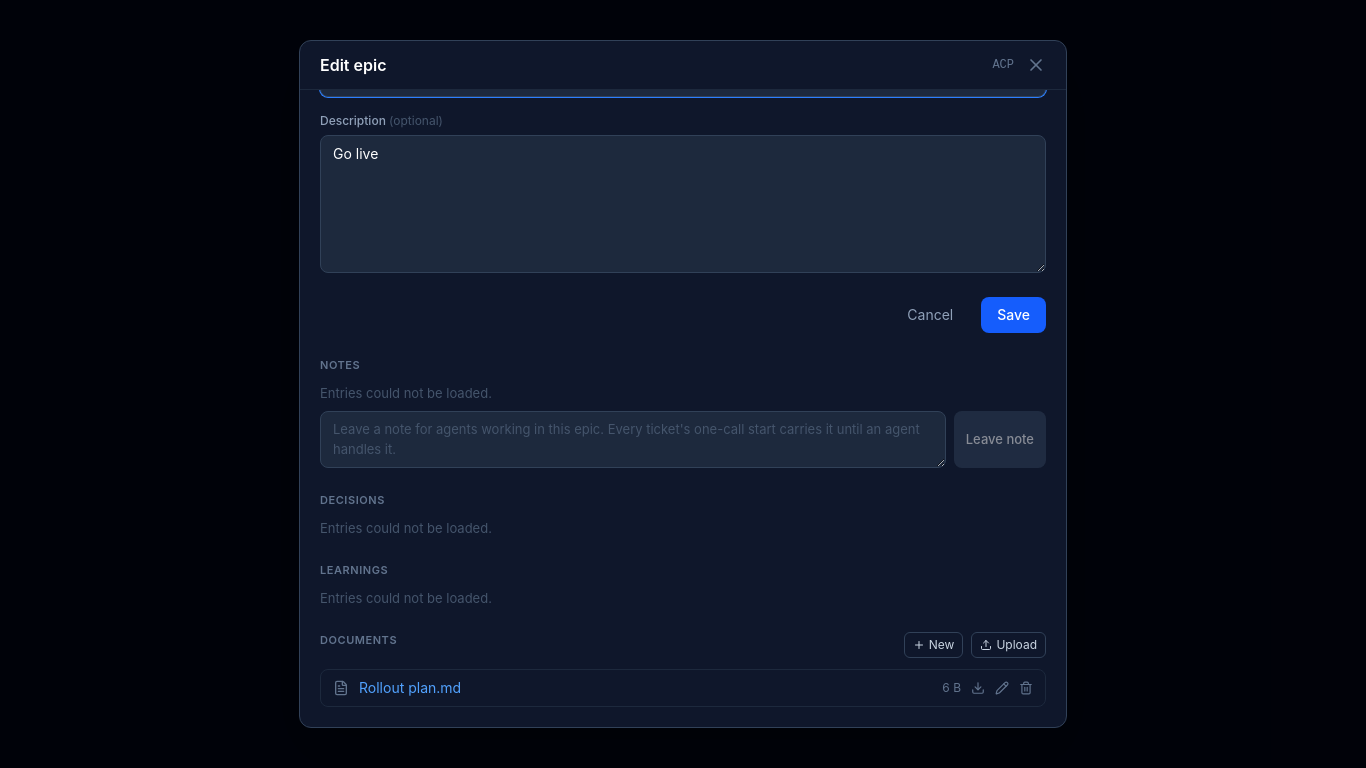
Test: EpicModal › opens an epic document over the modal, and Escape closes only the document
(page scrolled)
Click the button "Rollout plan.md" at (410,687), box [359,678,932,698]
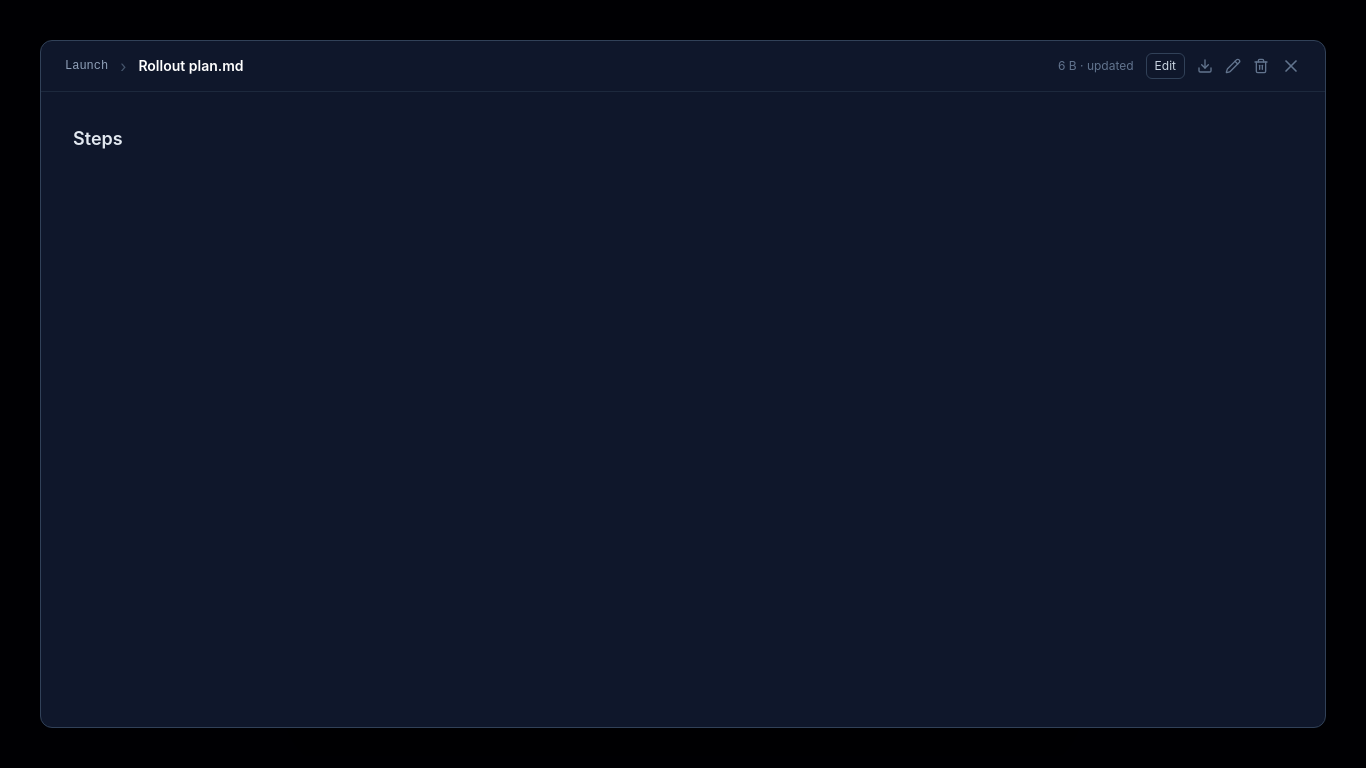
Result: the heading "Steps" is shown at [73,128,123,149]
Result: the text "Launch" is shown at [65,58,108,74]
Press Escape
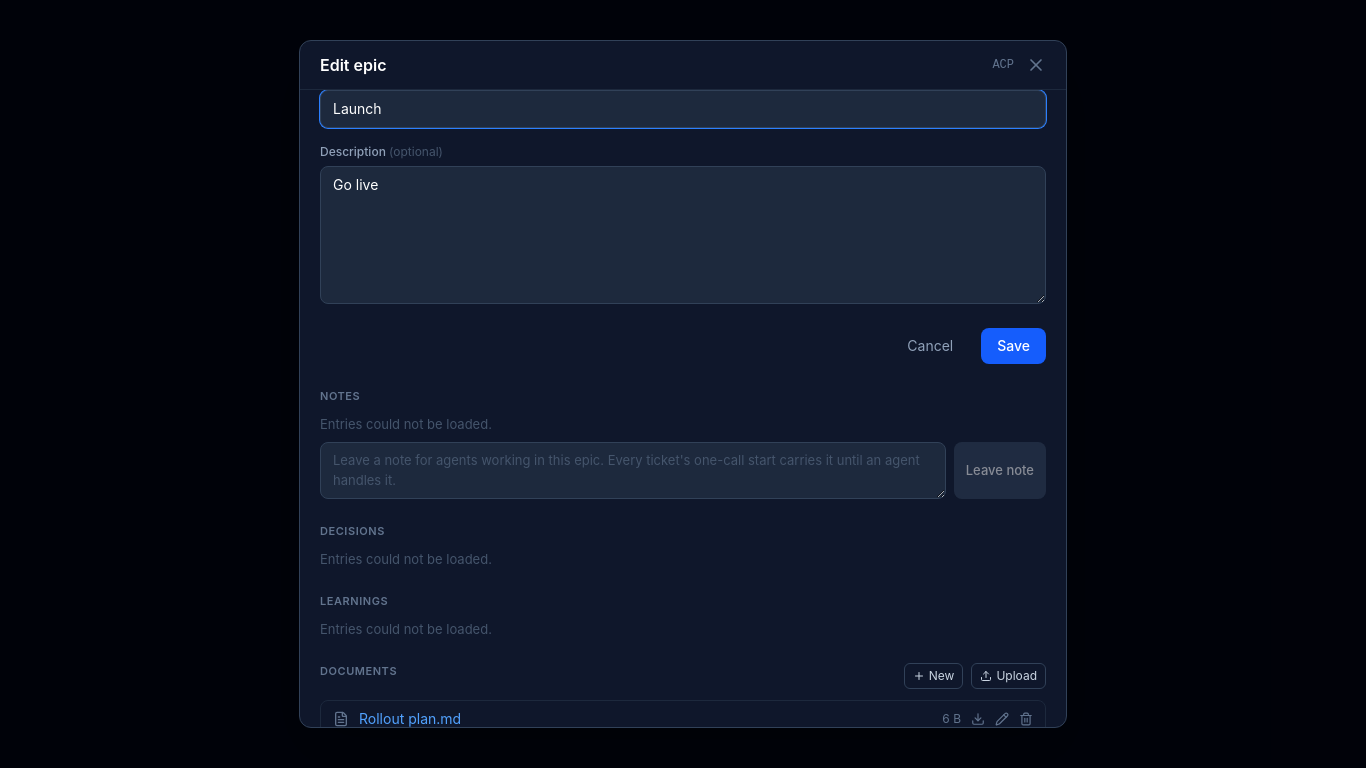
Result: the heading "Steps" is gone
